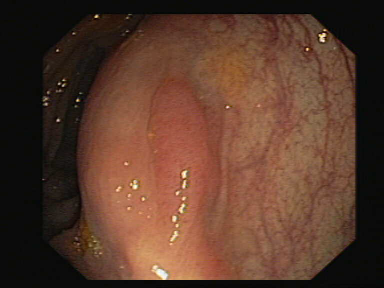polyp: (123, 82, 246, 247)
